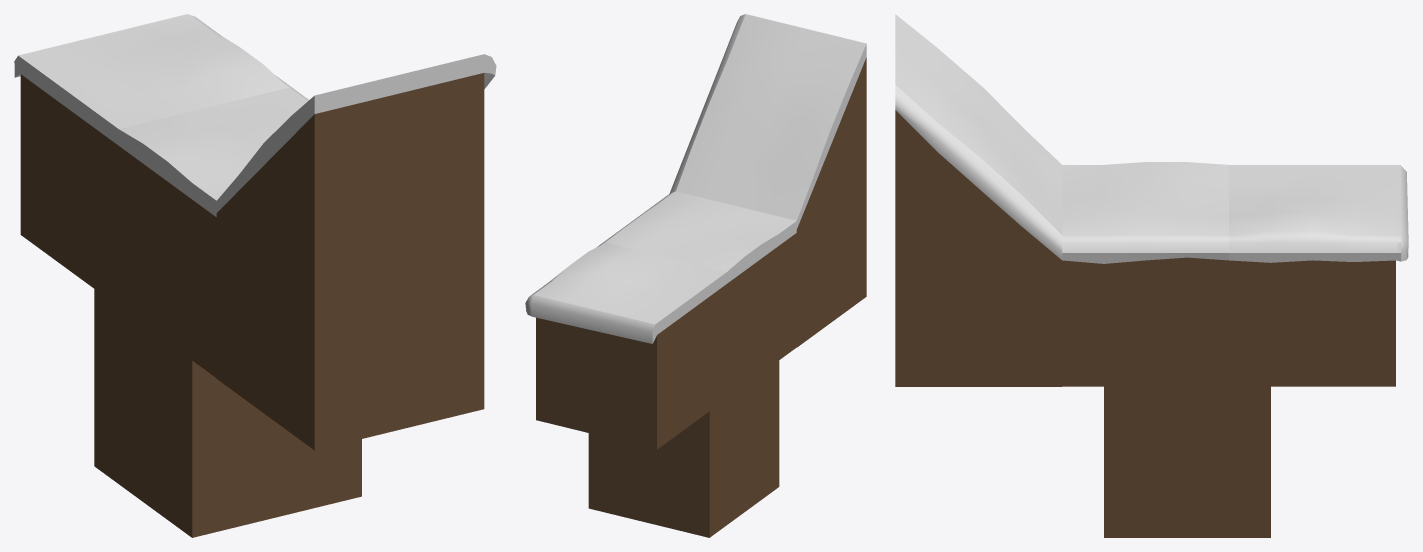
File: GroundMAp 1.fbx
3 views of the same model, side by side, from view 1: azimuth 30°, elevation 25°; view 2: azimuth 150°, elevation 25°; view 3: azimuth 270°, elevation 25° (orthographic). The views are drawn at different scales.
Parts seen in each view (by area): view 1: pCube3, polySurface2, pCube5, pCube1; view 2: pCube3, polySurface2, pCube5, pCube1; view 3: pCube3, polySurface2, pCube1, pCube5.
Boxes of the visible parts, x1,y1,x2,y2 form: pCube3: [216, 54, 496, 450]; polySurface2: [14, 14, 294, 306]; pCube5: [94, 289, 361, 537]; pCube1: [118, 88, 308, 377]; pCube3: [669, 14, 866, 347]; polySurface2: [525, 242, 726, 449]; pCube5: [588, 360, 779, 537]; pCube1: [601, 191, 796, 398]; pCube3: [895, 14, 1062, 386]; polySurface2: [1229, 165, 1408, 386]; pCube1: [1062, 162, 1228, 386]; pCube5: [1104, 386, 1270, 537].
Size of the model in its own units: 8.58 by 23.98 by 24.61.
